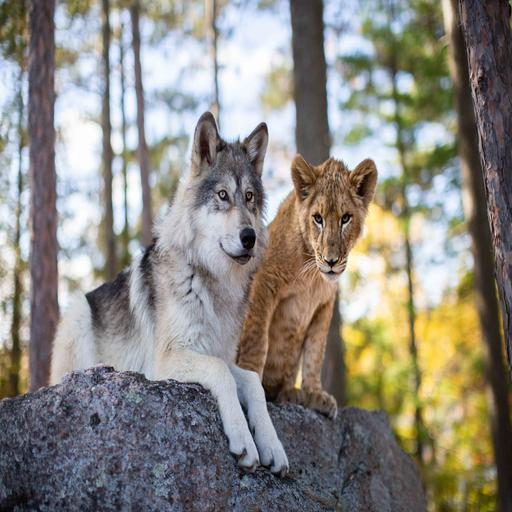Lion: (172, 149, 380, 422)
Wolf: (46, 104, 298, 485)
